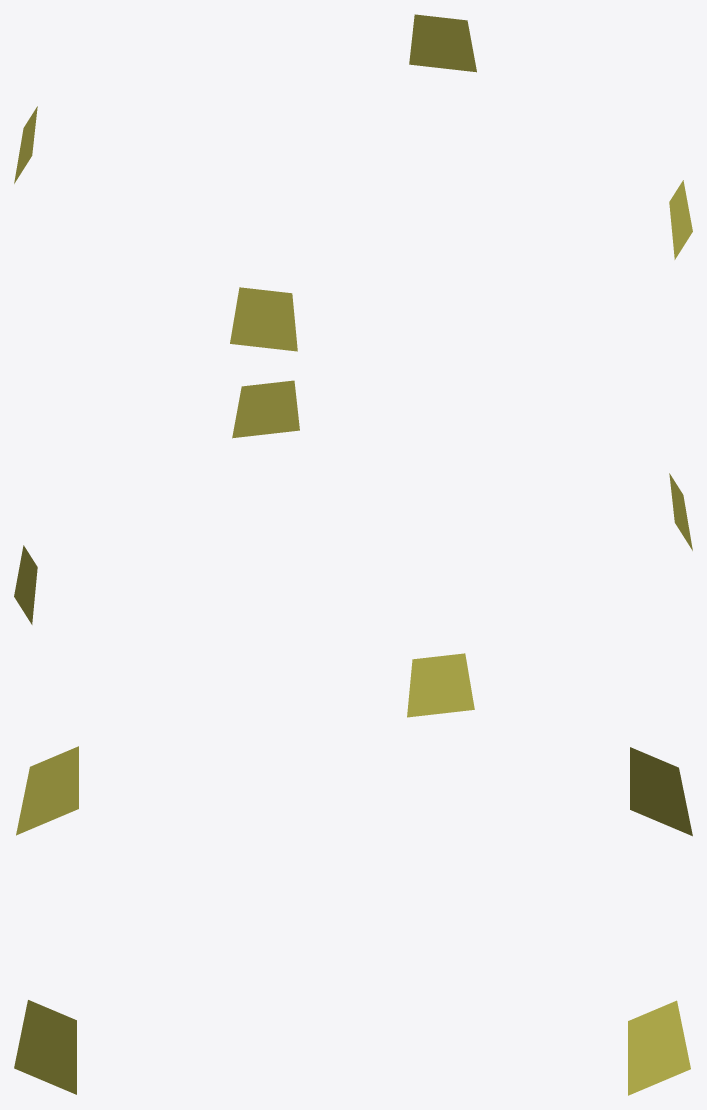
Rendered from cluster_0.fbx.
3 renders of one model, top to bottom at view 1: azimuth 30°, elevation 25°; view 2: azimuth 150°, elevation 25°; view 3: azimuth 270°, elevation 25°, orthographic. The views are drawn at different scales.
Visible parts, largest first — view 1: cluster_0; view 2: cluster_0; view 3: cluster_0.
Part boxes in pixels (<box>): cluster_0: <box>14,14,692,351</box>; cluster_0: <box>14,380,692,717</box>; cluster_0: <box>14,746,692,1095</box>.
Size of the model in its own units: 84598 by 9454 by 84598.
